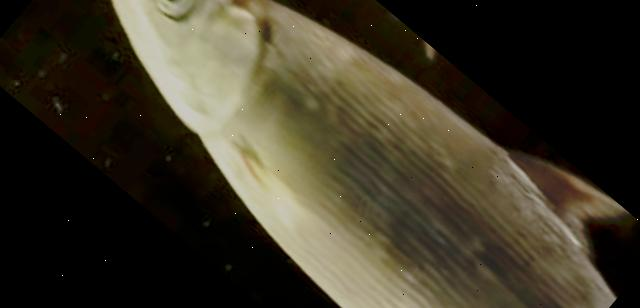Healthy Fish: (113, 0, 629, 308)
